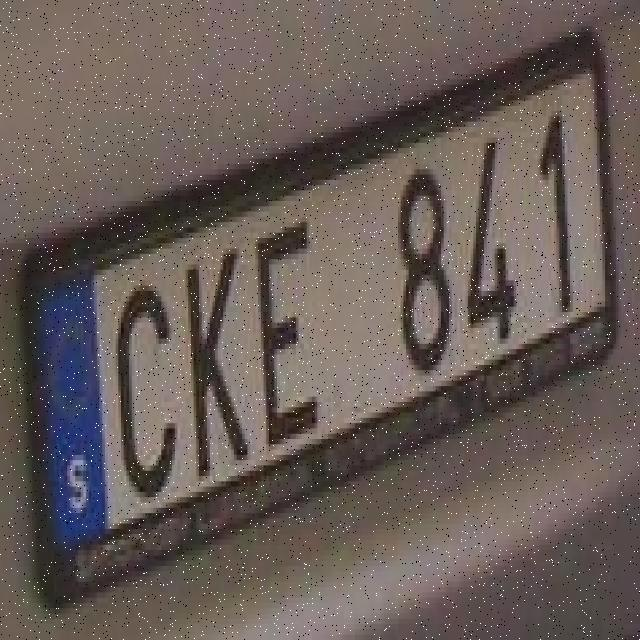licenseplate: (21, 47, 616, 560)
